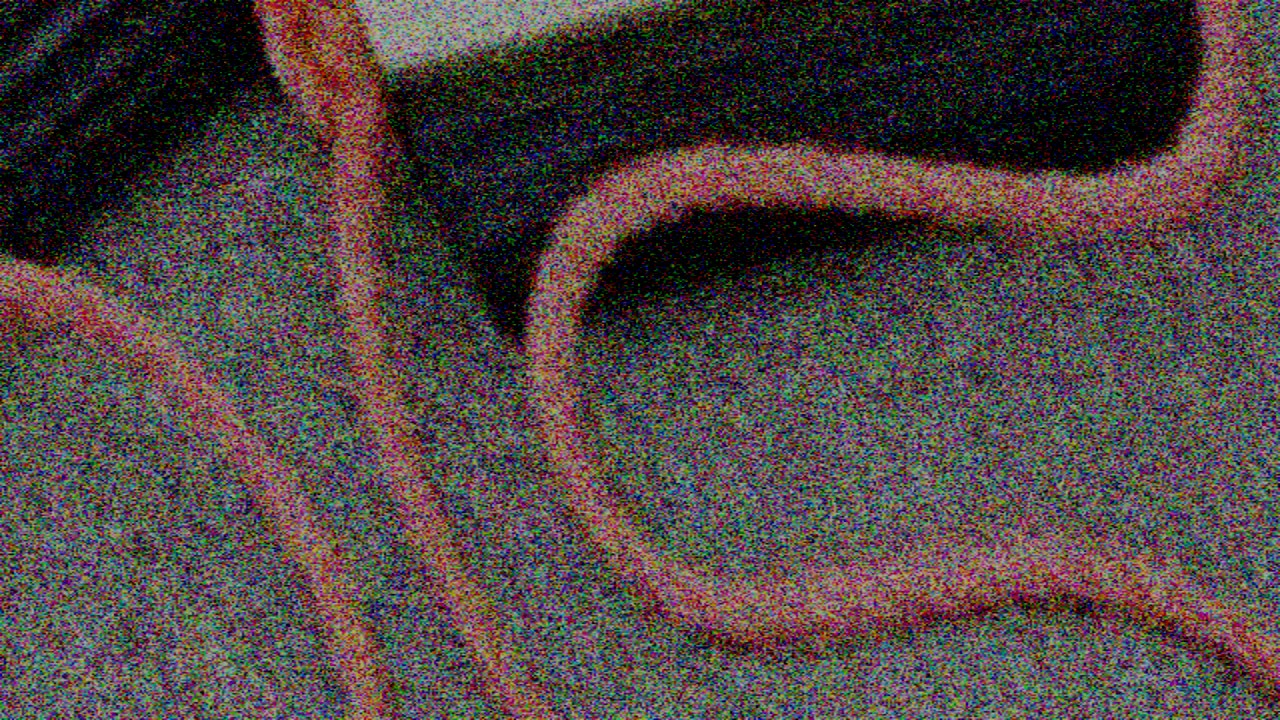chock: (167, 0, 1280, 376)
